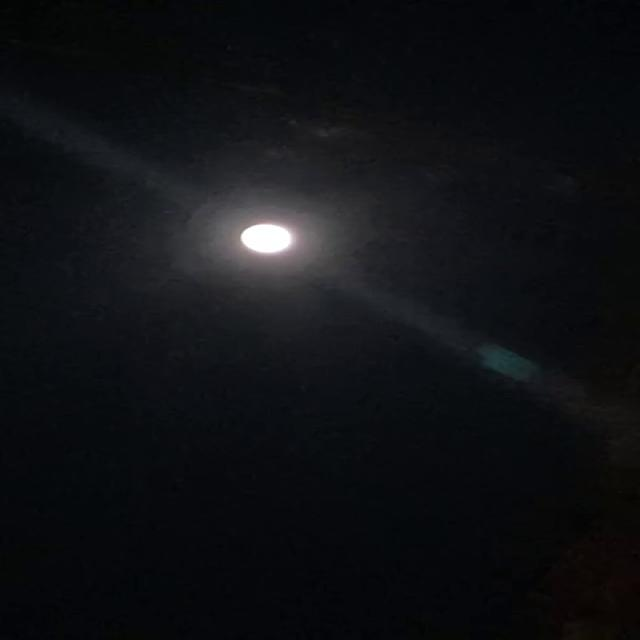moon: (188, 200, 316, 271)
